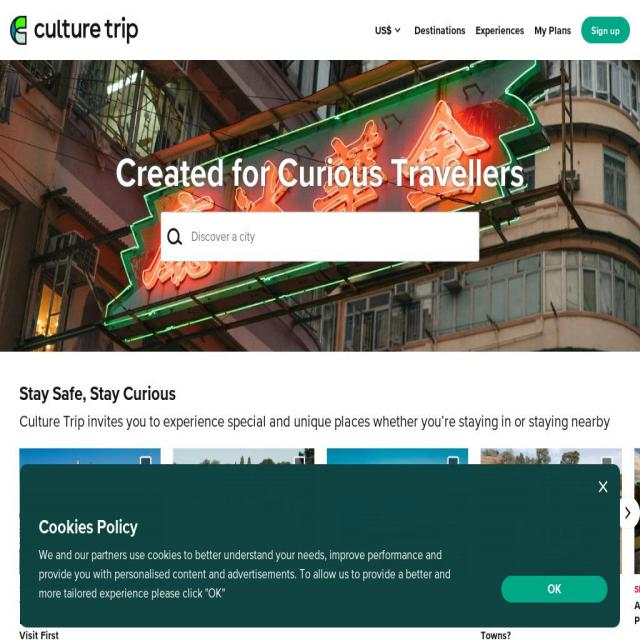button: (10, 15, 138, 45), (502, 576, 608, 602), (326, 448, 469, 465), (19, 448, 162, 464), (172, 448, 314, 464), (480, 448, 620, 463), (414, 13, 466, 47), (581, 17, 630, 43), (634, 448, 640, 640), (375, 13, 403, 47), (614, 496, 640, 532), (594, 474, 610, 496)
field: (160, 212, 480, 262)
